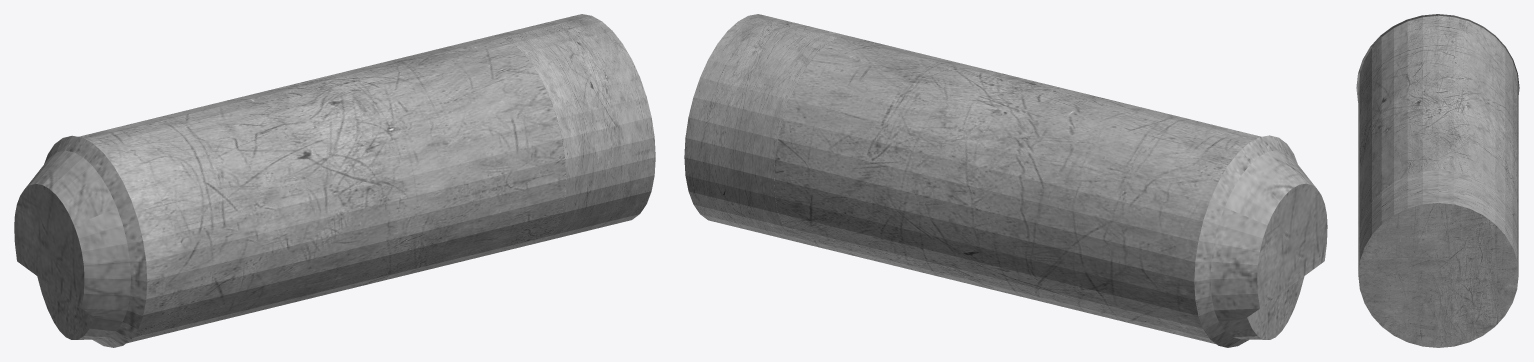
File: Submarine_Collider.fbx
3 renders of one model, left to right at view 1: azimuth 30°, elevation 25°; view 2: azimuth 150°, elevation 25°; view 3: azimuth 270°, elevation 25°, orthographic. The views are drawn at different scales.
Visible parts, largest first — view 1: CollisionPart2; view 2: CollisionPart2; view 3: CollisionPart2.
Part boxes in pixels (<box>): CollisionPart2: <box>14,14,655,347</box>; CollisionPart2: <box>684,14,1327,347</box>; CollisionPart2: <box>1356,14,1519,347</box>.
Size of the model in its own units: 1858 by 631 by 631.
